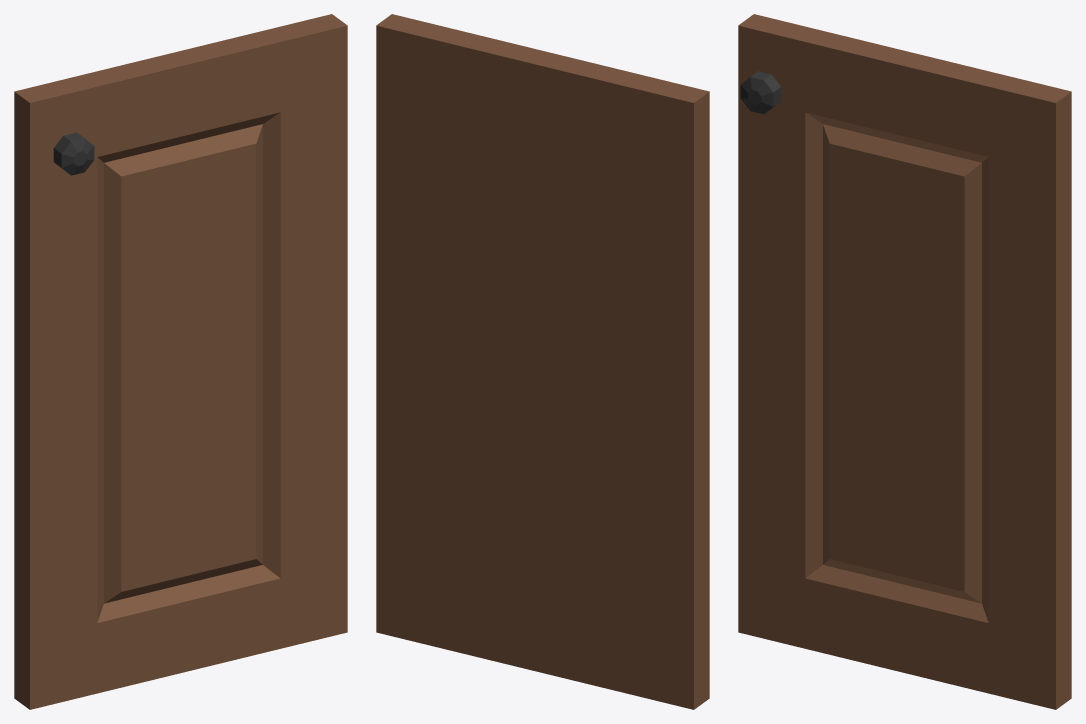
Rendered from Door3_C2_09.fbx.
3 renders of one model, left to right at view 1: azimuth 30°, elevation 25°; view 2: azimuth 150°, elevation 25°; view 3: azimuth 330°, elevation 25°, orthographic.
Parts seen in each view (by area): view 1: Door3_C2_09; view 2: Door3_C2_09; view 3: Door3_C2_09.
Part boxes in pixels (bbox=[...]): Door3_C2_09: bbox=[14, 14, 347, 709]; Door3_C2_09: bbox=[376, 14, 709, 709]; Door3_C2_09: bbox=[738, 14, 1071, 709].
Size of the model in its own units: 29 by 52.92 by 5.19.
